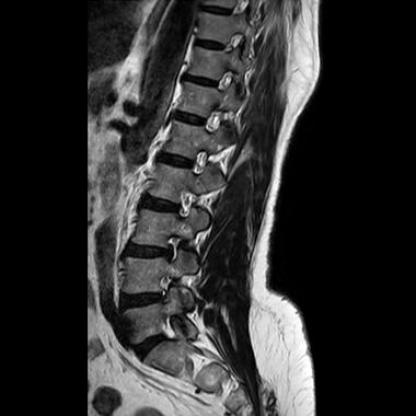Disc Bulgerotation: (116, 287, 167, 314), (121, 240, 173, 264)
